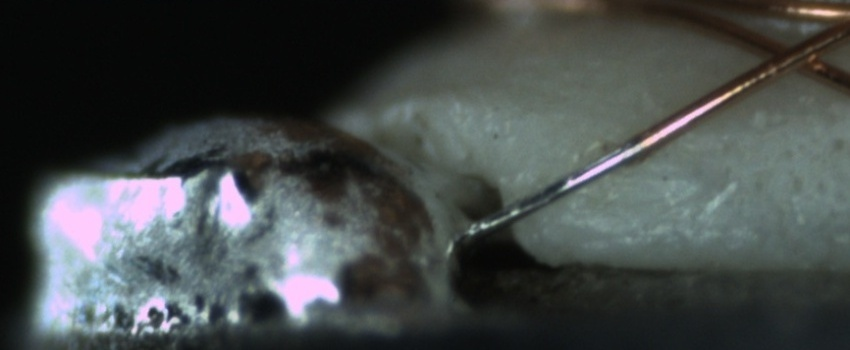CL: (743, 28, 840, 82)
TS: (464, 140, 636, 241)
